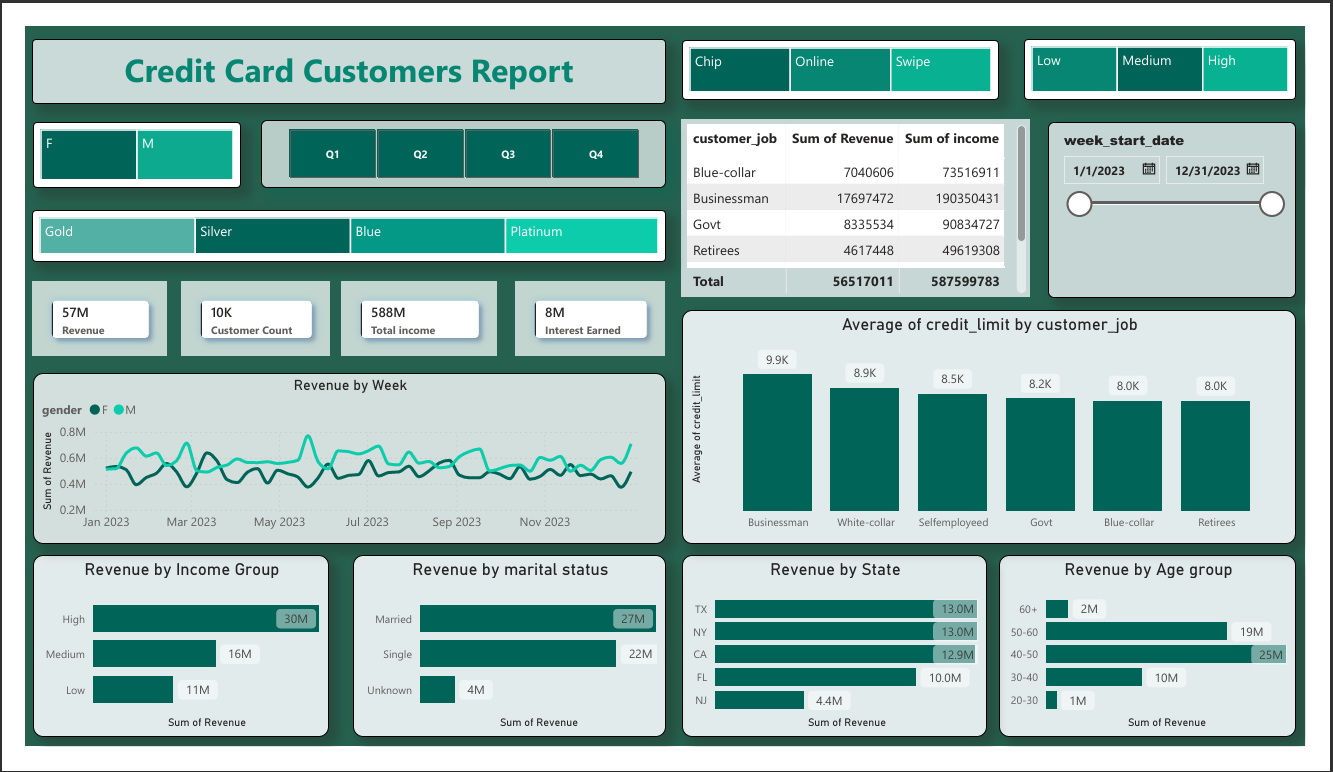

The page's visual inventory and layout, read from the dashboard file:
{"tool":"powerbi","page":{"name":"Credit card customer","canvas":[1280,720],"ordinal":2},"visuals":[{"type":"textbox","box":[5.8,11.7,634.2,65.2],"z":0},{"type":"barChart","title":"Revenue by Income Group","fields":{"Y":["Sum(public cc_detail.Revenue)"],"Category":["public cust_detail.Income_Group"]},"box":[6.8,528.1,296.7,181.9],"z":1000},{"type":"tableEx","fields":{"Values":["public cust_detail.customer_job","Sum(public cc_detail.Revenue)","public cust_detail.income"]},"box":[655.6,93.4,349.2,178],"z":2000},{"type":"cardVisual","fields":{"Data":["Sum(public cc_detail.Revenue)"]},"box":[6.8,254.8,135.2,74.9],"z":3000},{"type":"cardVisual","fields":{"Data":["public cust_detail.Customer Count"]},"box":[155.6,254.8,149.8,74.9],"z":4000},{"type":"cardVisual","fields":{"Data":["Sum(public cc_detail.interest_earned)"]},"box":[490.2,254.8,149.8,74.9],"z":5000},{"type":"cardVisual","fields":{"Data":["Sum(public cust_detail.income)"]},"box":[316.1,254.8,155.6,74.9],"z":6000},{"type":"slicer","fields":{"Values":["public cc_detail.week_start_date"]},"box":[1022.2,95.3,248,176],"z":7000},{"type":"treemap","fields":{"Values":["Avg(public cc_detail.client_num)"],"Group":["public cust_detail.gender"]},"box":[6.8,95.3,208.1,66.1],"z":8000},{"type":"treemap","fields":{"Values":["Avg(public cc_detail.client_num)"],"Group":["public cc_detail.card_category"]},"box":[5.8,182.9,634.2,52.5],"z":9000},{"type":"treemap","fields":{"Values":["Avg(public cc_detail.client_num)"],"Group":["public cust_detail.Income_Group"]},"box":[997.9,11.7,272.3,61.3],"z":10000},{"type":"slicer","fields":{"Values":["public cc_detail.qtr"]},"box":[235.4,93.4,404.6,68.1],"z":11000},{"type":"lineChart","title":" Revenue by Week","fields":{"Category":["public cc_detail.week_start_date.Variation.Date Hierarchy.Year","public cc_detail.week_start_date.Variation.Date Hierarchy.Month","public cc_detail.week_start_date.Variation.Date Hierarchy.Day"],"Y":["Sum(public cc_detail.Revenue)"],"Series":["public cust_detail.gender"]},"box":[6.8,346.3,633.2,171.2],"z":12000},{"type":"barChart","title":"Revenue by Age group","fields":{"Y":["Sum(public cc_detail.Revenue)"],"Category":["public cust_detail.AgeGroup"]},"box":[972.6,528.1,297.6,181.9],"z":13000},{"type":"barChart","title":"Revenue by State ","fields":{"Y":["Sum(public cc_detail.Revenue)"],"Category":["public cust_detail.state_cd"]},"box":[655.6,528.1,305.4,181.9],"z":14000},{"type":"barChart","title":"Revenue by marital status","fields":{"Y":["Sum(public cc_detail.Revenue)"],"Category":["public cust_detail.marital_status"]},"box":[326.8,528.1,313.2,181.9],"z":15000},{"type":"treemap","fields":{"Group":["public cc_detail.use_chip"],"Values":["Sum(public cust_detail.client_num)"]},"box":[655.6,12.6,317.1,60.3],"z":16000},{"type":"columnChart","fields":{"Category":["public cust_detail.customer_job"],"Y":["Avg(public cc_detail.credit_limit)"]},"box":[655.6,283,614.7,234.4],"z":16001}]}

Visuals, with their boxes in screenshot pixels (x1, y1, x2, y2), scaled from the page's 1280x720 canvas onto the 1333x772 screenshot:
textbox: pyautogui.locateOnScreen(6, 13, 666, 82)
"Revenue by Income Group" barChart: pyautogui.locateOnScreen(7, 566, 316, 761)
tableEx - public cust_detail.customer_job x Sum(public cc_detail.Revenue): pyautogui.locateOnScreen(683, 100, 1046, 291)
cardVisual - Sum(public cc_detail.Revenue): pyautogui.locateOnScreen(7, 273, 148, 354)
cardVisual - public cust_detail.Customer Count: pyautogui.locateOnScreen(162, 273, 318, 354)
cardVisual - Sum(public cc_detail.interest_earned): pyautogui.locateOnScreen(510, 273, 666, 354)
cardVisual - Sum(public cust_detail.income): pyautogui.locateOnScreen(329, 273, 491, 354)
slicer - public cc_detail.week_start_date: pyautogui.locateOnScreen(1065, 102, 1323, 291)
treemap - Avg(public cc_detail.client_num) x public cust_detail.gender: pyautogui.locateOnScreen(7, 102, 224, 173)
treemap - Avg(public cc_detail.client_num) x public cc_detail.card_category: pyautogui.locateOnScreen(6, 196, 666, 252)
treemap - Avg(public cc_detail.client_num) x public cust_detail.Income_Group: pyautogui.locateOnScreen(1039, 13, 1323, 78)
slicer - public cc_detail.qtr: pyautogui.locateOnScreen(245, 100, 666, 173)
" Revenue by Week" lineChart: pyautogui.locateOnScreen(7, 371, 666, 555)
"Revenue by Age group" barChart: pyautogui.locateOnScreen(1013, 566, 1323, 761)
"Revenue by State " barChart: pyautogui.locateOnScreen(683, 566, 1001, 761)
"Revenue by marital status" barChart: pyautogui.locateOnScreen(340, 566, 666, 761)
treemap - public cc_detail.use_chip x Sum(public cust_detail.client_num): pyautogui.locateOnScreen(683, 14, 1013, 78)
columnChart - public cust_detail.customer_job x Avg(public cc_detail.credit_limit): pyautogui.locateOnScreen(683, 303, 1323, 555)
